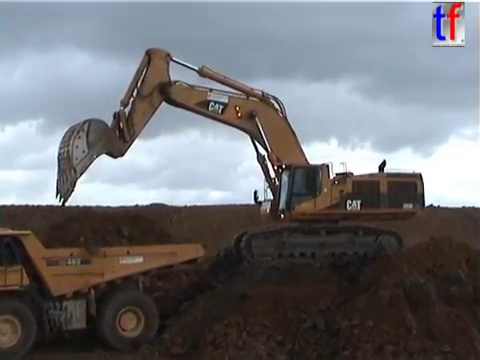excavator: (53, 46, 427, 270)
truck: (1, 223, 208, 360)
